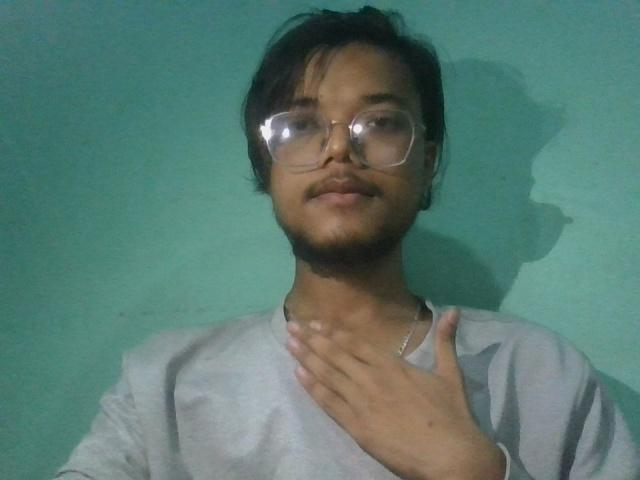Please: (203, 276, 568, 464)
